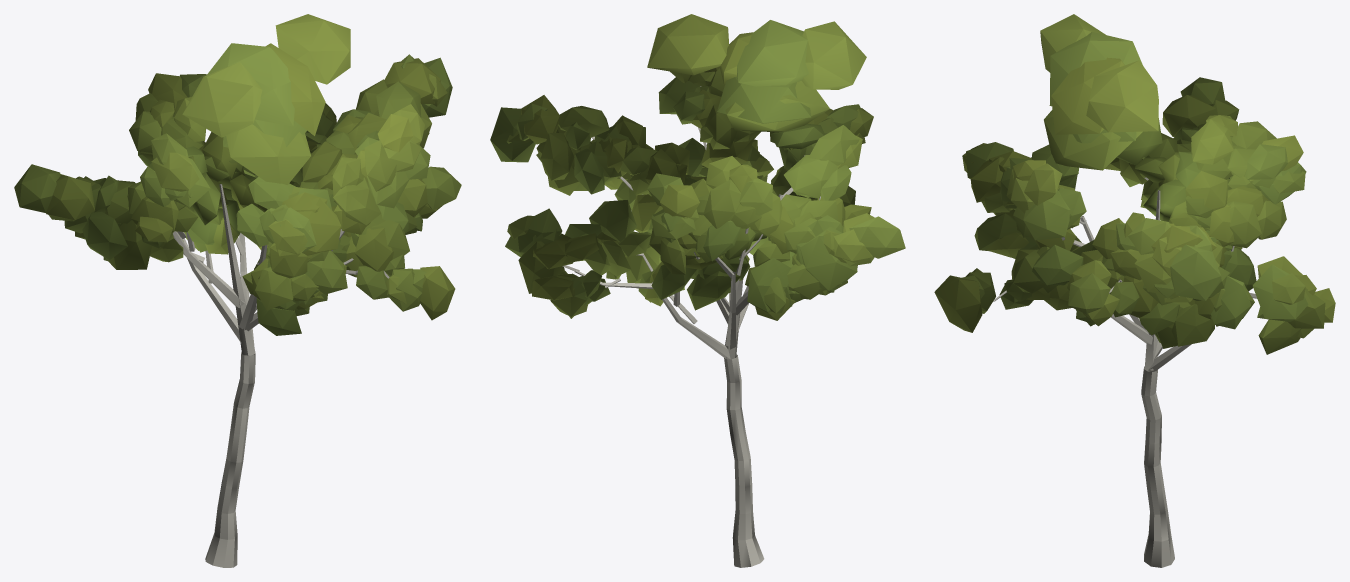
File: tree_birch.glb
The picture shows the model from 3 angles, left to right: view 1: azimuth 30°, elevation 25°; view 2: azimuth 150°, elevation 25°; view 3: azimuth 270°, elevation 25°; orthographic projection. The views are drawn at different scales.
Parts seen in each view (by area): view 1: tree_birch; view 2: tree_birch; view 3: tree_birch.
Part boxes in pixels (left/top/right/bottom): tree_birch: left=14, top=14, right=461, bottom=567; tree_birch: left=490, top=14, right=905, bottom=567; tree_birch: left=934, top=14, right=1335, bottom=567.
Size of the model in its own units: 6.95 by 8.32 by 5.74.
